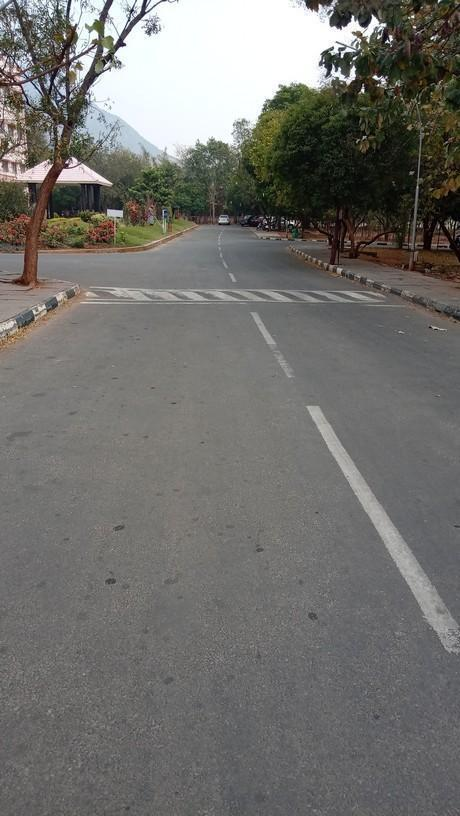speedbreaker: (81, 284, 397, 306)
